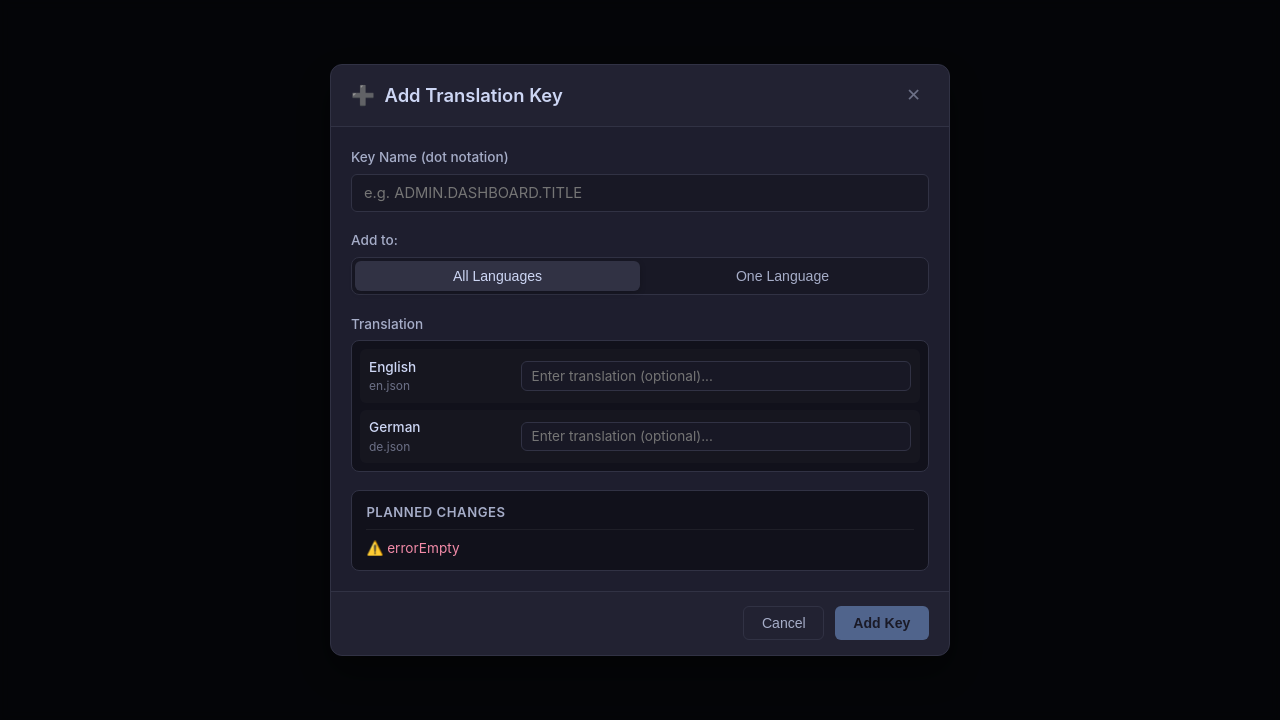
Test: AddTranslationKeyModal Component › shows existing key status in All Languages mode and allows entering translation for absent languages
Key already exists in en.json but absent in de.json
Type "HEADER.TITLE" into the field with test id "add-key-input". click: (640, 193)
box: [351, 174, 929, 212]
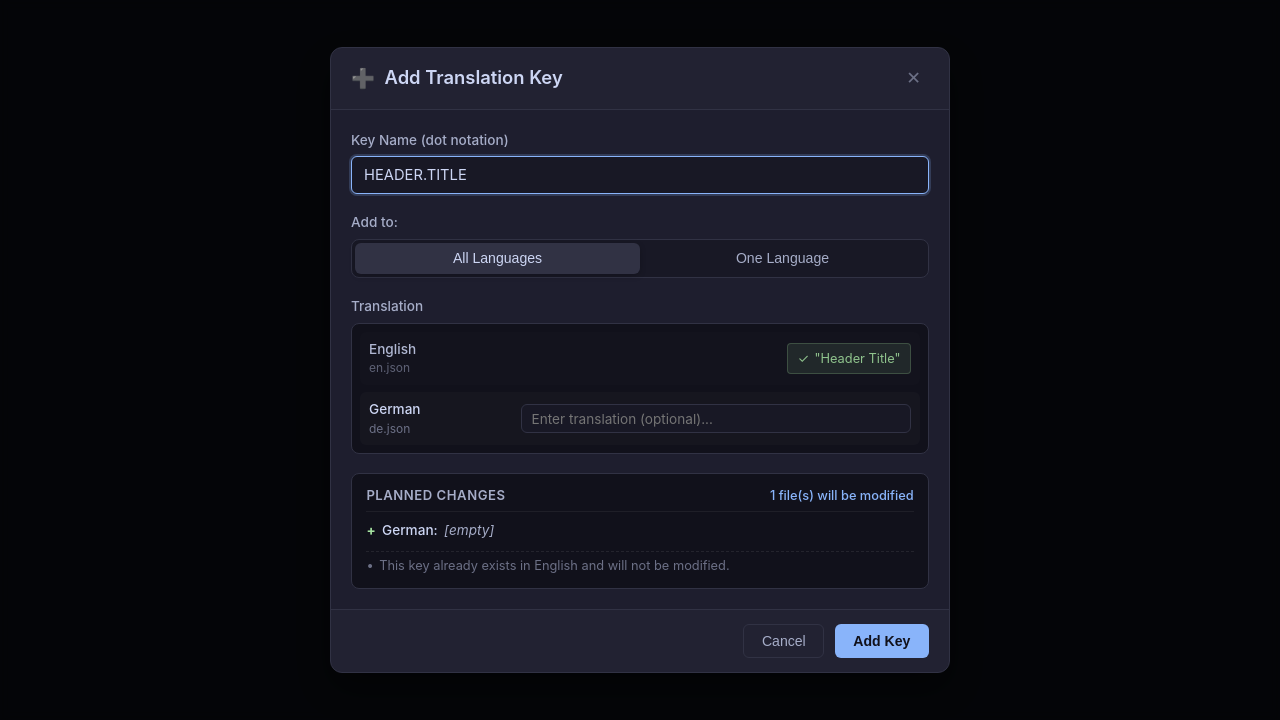
Check: the field with test id "translation-input-de.json" is shown, box [521, 404, 911, 433]
Check: the text "\"Header Title\"" is shown, box [815, 349, 900, 368]
